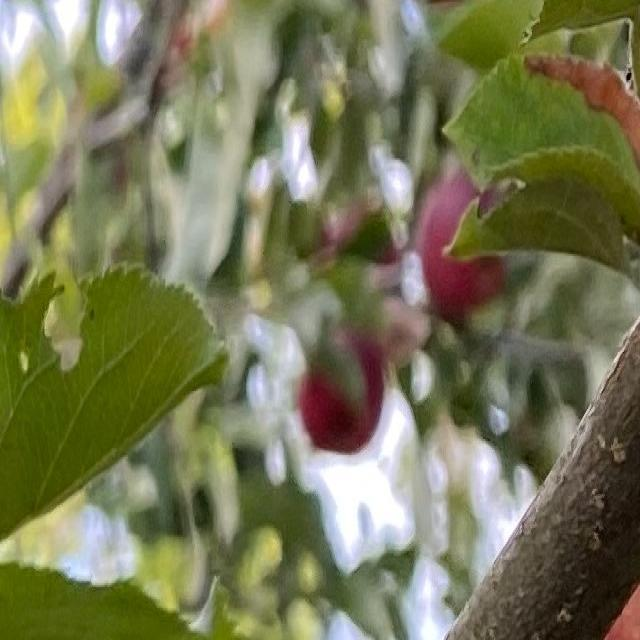100-_ripeness: (421, 176, 508, 316), (303, 336, 381, 453)
